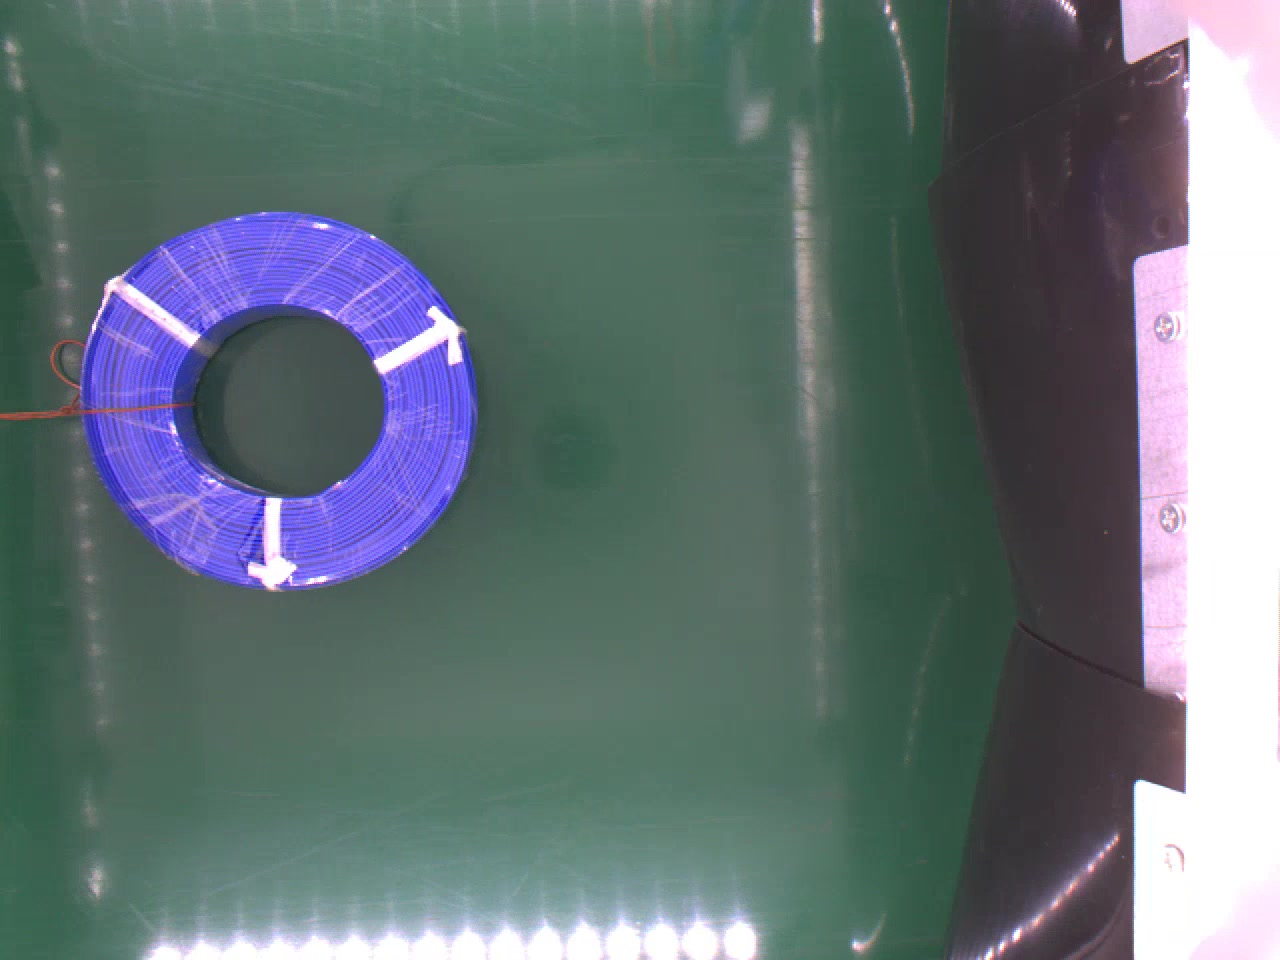blue: (83, 208, 475, 581)
